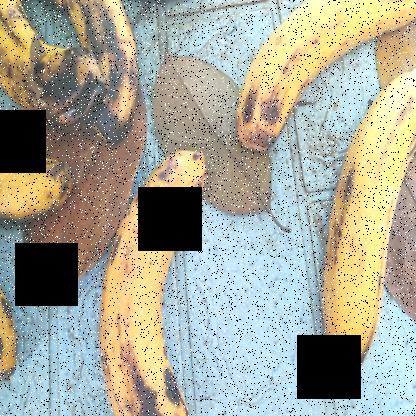overripe: (93, 139, 224, 415), (0, 149, 78, 233), (0, 263, 38, 389)
ripe: (318, 59, 416, 389), (236, 1, 415, 157)
rotten: (46, 1, 144, 153), (0, 0, 95, 121)
